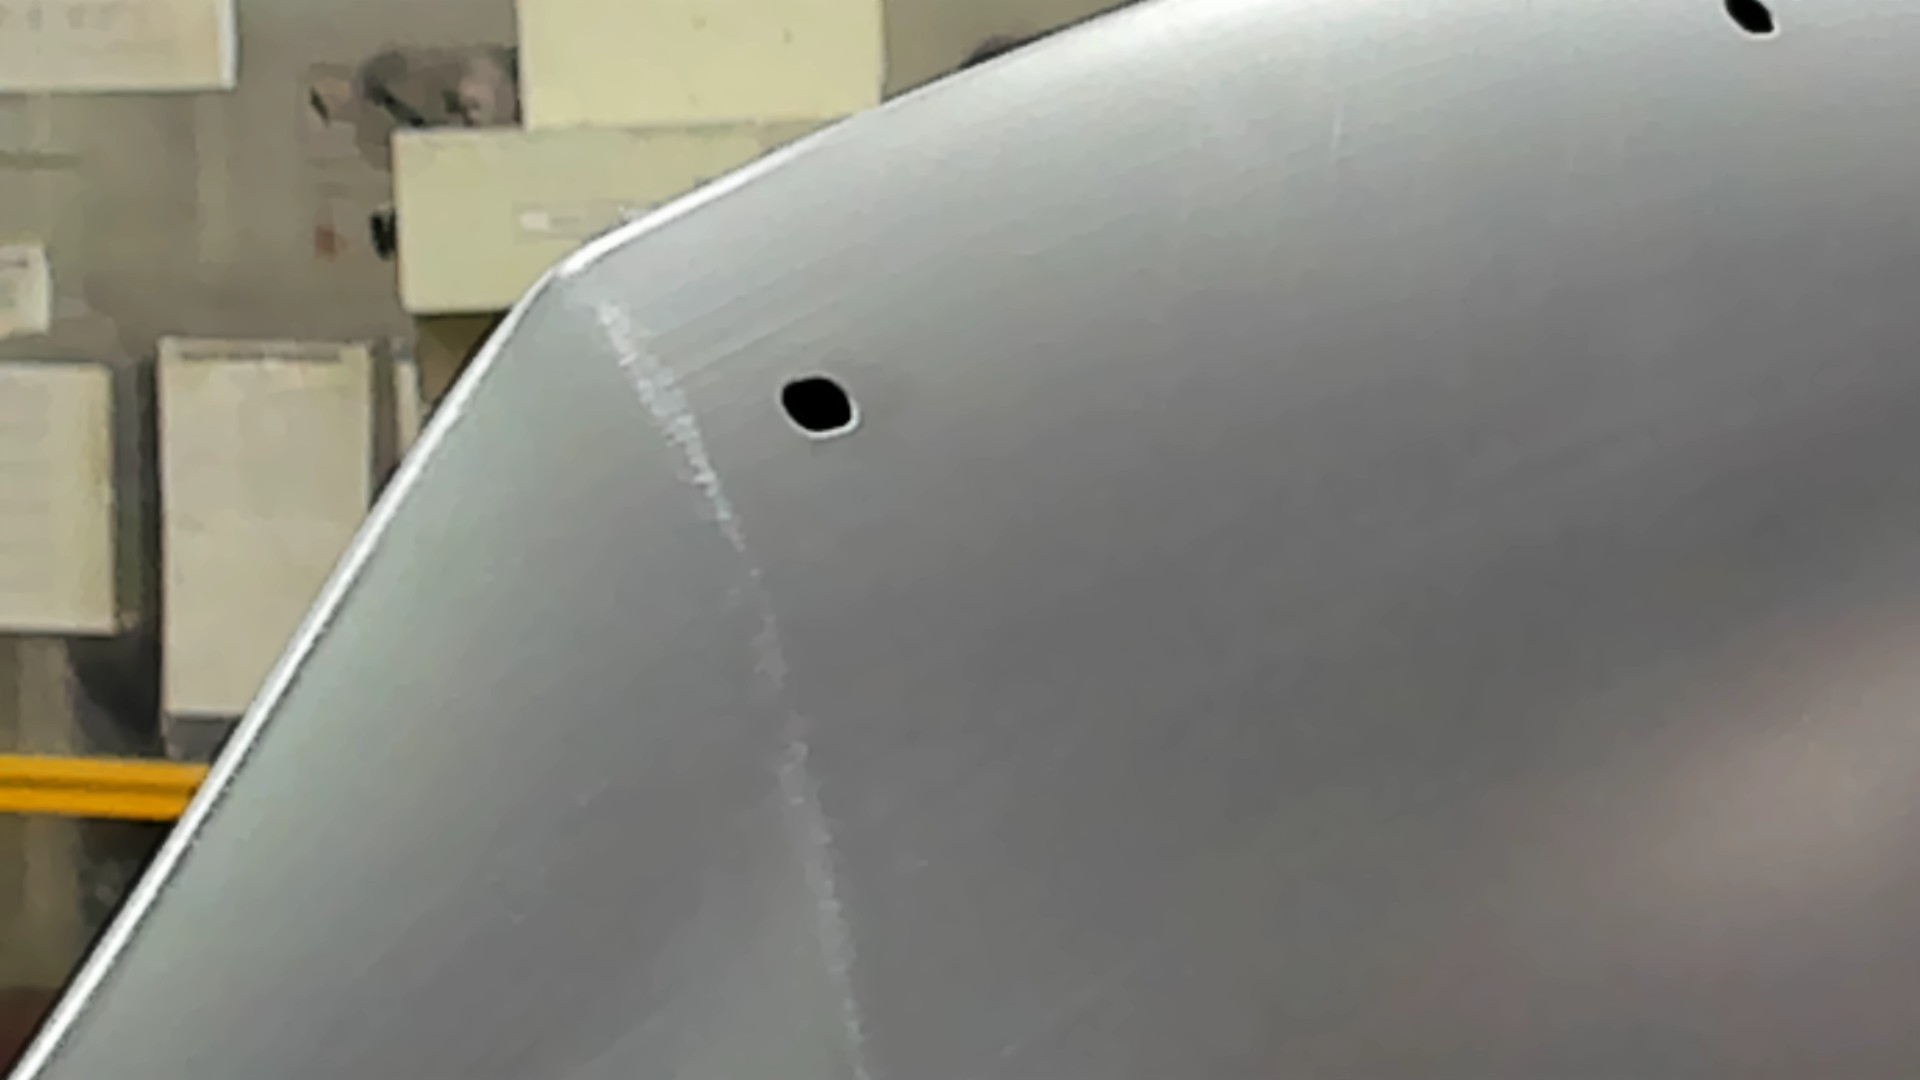amorfo: (770, 365, 866, 447), (1720, 1, 1783, 37)
capo: (909, 117, 1920, 1080)
